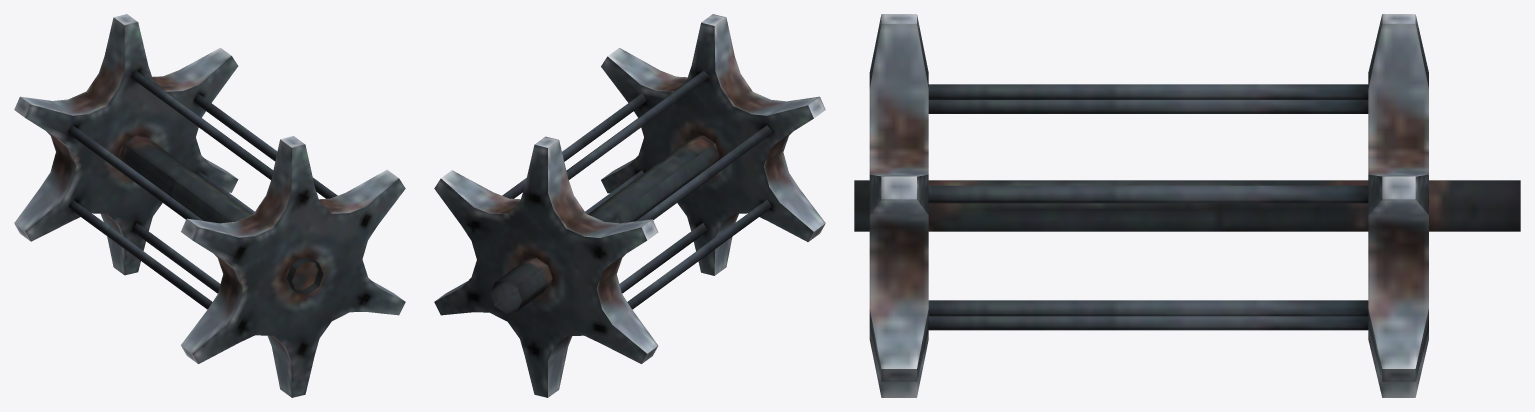
Rendered from zvezda.obj.
3 renders of one model, left to right at view 1: azimuth 30°, elevation 25°; view 2: azimuth 150°, elevation 25°; view 3: azimuth 270°, elevation 25°, orthographic. The views are drawn at different scales.
Parts seen in each view (by area): view 1: wpn34_gatling; view 2: wpn34_gatling; view 3: wpn34_gatling.
Boxes of the visible parts, x1=… form: wpn34_gatling: x1=14, y1=14, x2=405, y2=397; wpn34_gatling: x1=434, y1=14, x2=825, y2=397; wpn34_gatling: x1=854, y1=14, x2=1520, y2=397.
Bounding box in the file's own units: 0.0695 × 0.0779 × 0.1257.
1 material, 1 textured.
